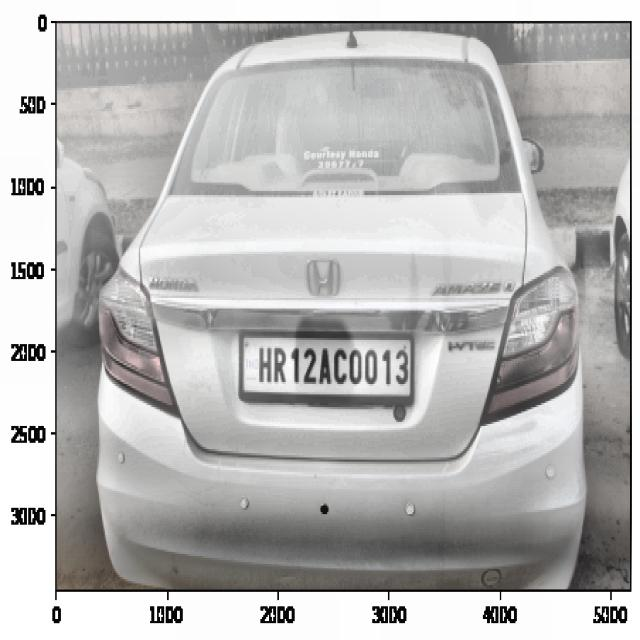license_plate: (253, 335, 412, 399)
